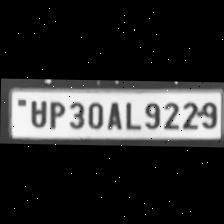0: (84, 97, 106, 128)
2: (178, 98, 200, 130), (160, 97, 180, 129)
3: (65, 97, 85, 128)
9: (138, 97, 162, 128), (197, 97, 219, 128)
A: (104, 97, 122, 129)
L: (121, 98, 139, 129)
P: (44, 97, 66, 128)
U: (25, 96, 47, 127)
